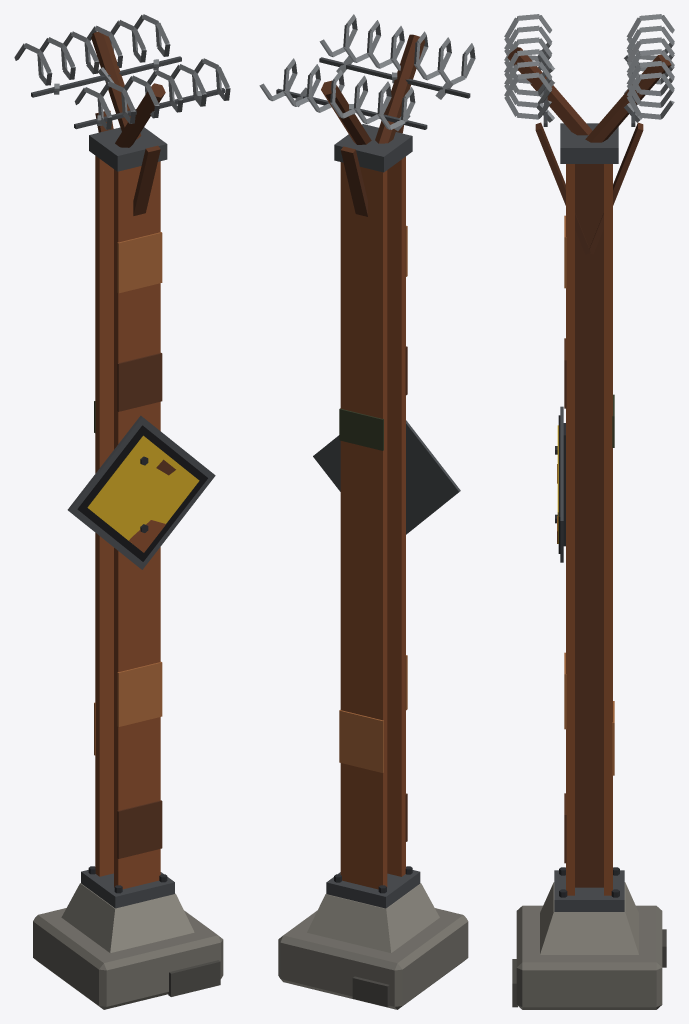
File: boundary_post.fbx
3 renders of one model, left to right at view 1: azimuth 30°, elevation 25°; view 2: azimuth 150°, elevation 25°; view 3: azimuth 270°, elevation 25°, orthographic.
Parts seen in each view (by area): view 1: boundary_post; view 2: boundary_post; view 3: boundary_post.
Part boxes in pixels (left/top/right/bottom): boundary_post: left=14, top=14, right=230, bottom=1009; boundary_post: left=259, top=14, right=475, bottom=1009; boundary_post: left=504, top=14, right=674, bottom=1009.
Bounding box in the file's own units: 0.6 × 3.53 × 0.5856.
